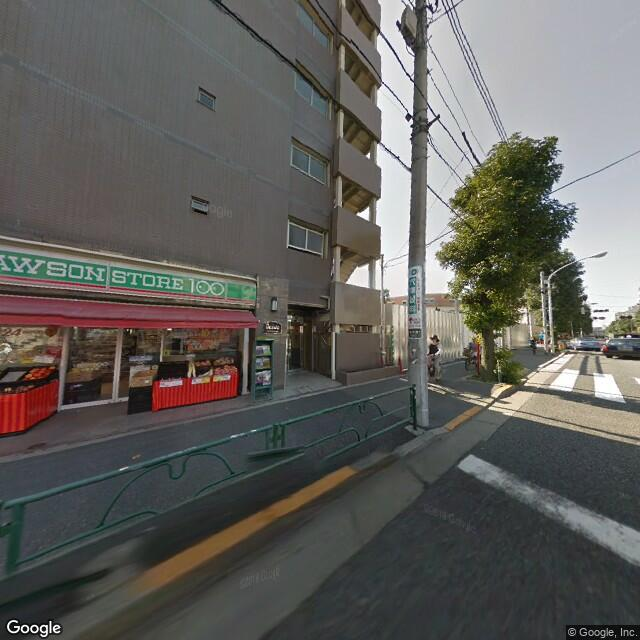lawson: (1, 242, 259, 310)
